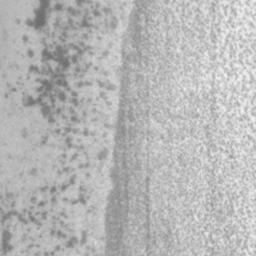Pitted surface: (0, 0, 256, 256), (20, 168, 37, 182)
